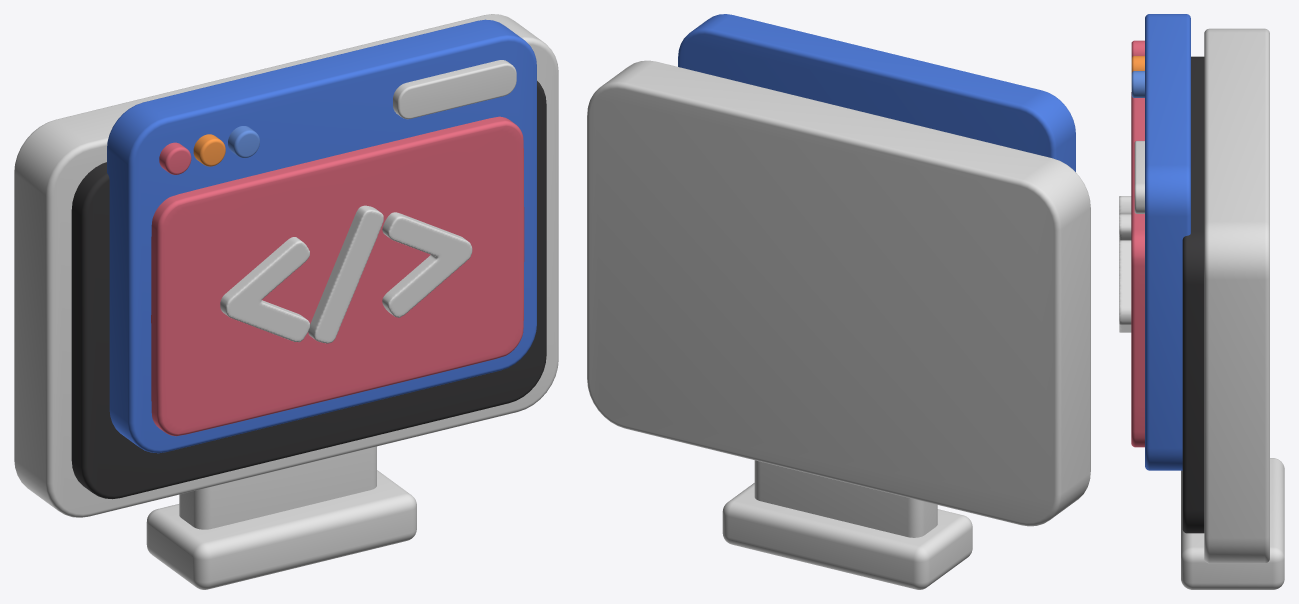
File: code.glb
3 renders of one model, left to right at view 1: azimuth 30°, elevation 25°; view 2: azimuth 150°, elevation 25°; view 3: azimuth 270°, elevation 25°, orthographic. The views are drawn at different scales.
Parts seen in each view (by area): view 1: Cube.007, Cube.013, Cube.011, Cube.010, Cube.014, Text, Cube.012, Cube.001, Cylinder.005, Cylinder.004, Cylinder.002; view 2: Cube.011, Cube.013, Cube.014, Cube.012; view 3: Cube.011, Cube.013, Cube.010, Cube.014, Cube.007, Text, Cube.001, Cylinder.002.
Boxes of the visible parts, <box> form: Cube.007: <box>151,116,524,436</box>; Cube.013: <box>107,19,536,453</box>; Cube.011: <box>14,14,558,517</box>; Cube.010: <box>71,81,546,499</box>; Cube.014: <box>146,470,416,589</box>; Text: <box>220,205,472,343</box>; Cube.012: <box>179,446,376,529</box>; Cube.001: <box>393,60,516,119</box>; Cylinder.005: <box>193,134,225,166</box>; Cylinder.004: <box>159,142,191,174</box>; Cylinder.002: <box>228,126,259,158</box>; Cube.011: <box>587,60,1090,526</box>; Cube.013: <box>678,14,1075,171</box>; Cube.014: <box>722,483,972,589</box>; Cube.012: <box>754,460,937,537</box>; Cube.011: <box>1204,28,1269,563</box>; Cube.013: <box>1145,14,1190,470</box>; Cube.010: <box>1182,56,1204,533</box>; Cube.014: <box>1181,458,1284,589</box>; Cube.007: <box>1131,92,1144,447</box>; Text: <box>1119,196,1131,332</box>; Cube.001: <box>1134,141,1144,213</box>; Cylinder.002: <box>1131,71,1144,97</box>.
Size of the model in its own units: 9.5 by 8.93 by 2.94.
